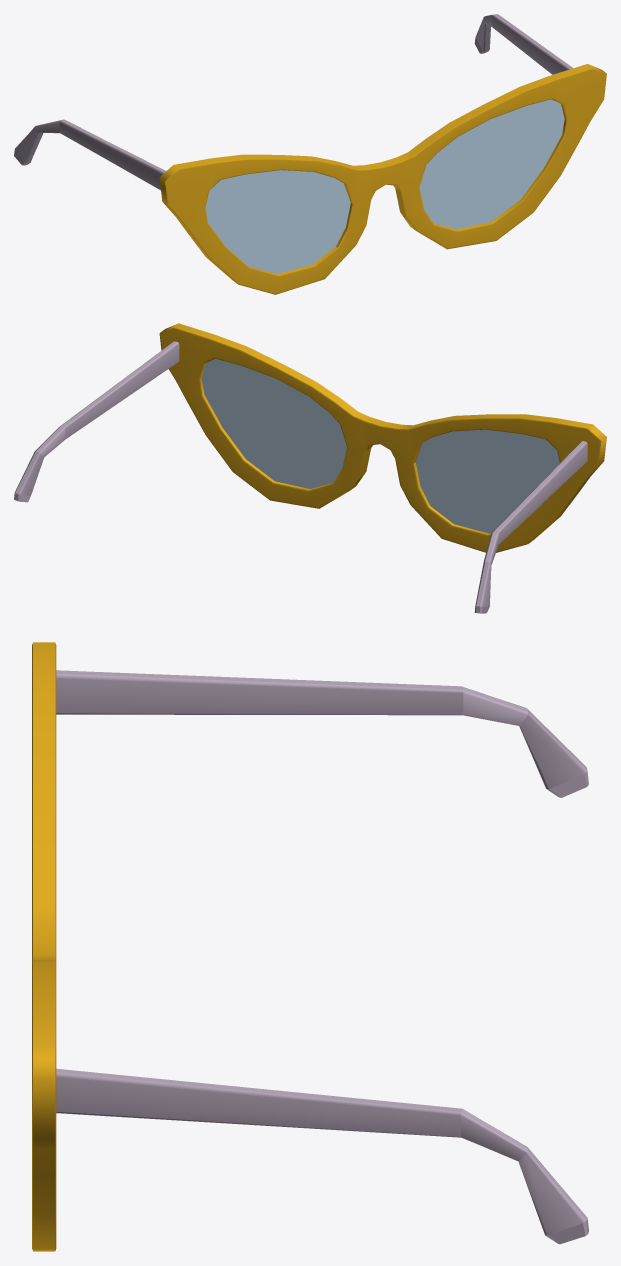
The model's file is Glasses_15_03.fbx.
The picture shows the model from 3 angles, top to bottom: view 1: azimuth 30°, elevation 25°; view 2: azimuth 150°, elevation 25°; view 3: azimuth 270°, elevation 25°; orthographic projection. The views are drawn at different scales.
Parts seen in each view (by area): view 1: Glasses_15_03; view 2: Glasses_15_03; view 3: Glasses_15_03.
Boxes of the visible parts, x1,y1,x2,y2 form: Glasses_15_03: [14, 14, 606, 294]; Glasses_15_03: [14, 323, 606, 613]; Glasses_15_03: [32, 642, 588, 1251].
Size of the model in its own units: 39.16 by 11.96 by 20.19.
